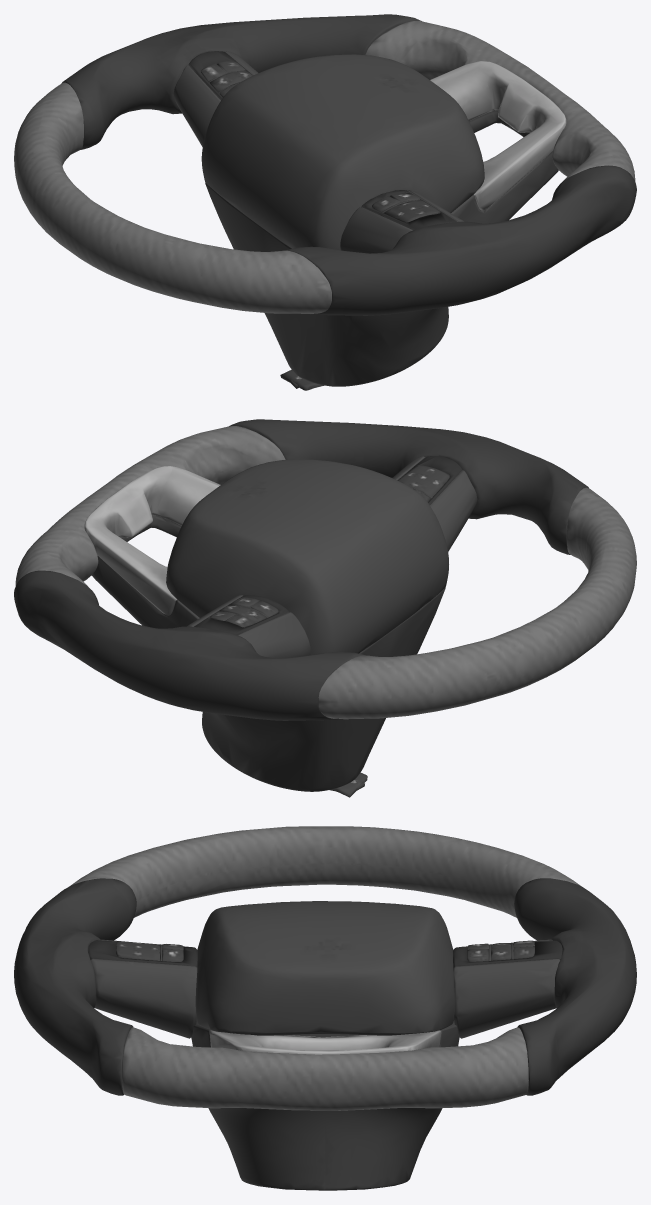
The model's file is volante.glb.
3 views of the same model, one above another, from view 1: azimuth 30°, elevation 25°; view 2: azimuth 150°, elevation 25°; view 3: azimuth 270°, elevation 25° (orthographic).
Parts seen in each view (by area): view 1: button_02_mesh_00; view 2: button_02_mesh_00; view 3: button_02_mesh_00.
Part boxes in pixels (x1,y1,x2,y2): button_02_mesh_00: [14, 14, 636, 390]; button_02_mesh_00: [14, 419, 636, 797]; button_02_mesh_00: [14, 826, 636, 1190].
Size of the model in its own units: 0.3284 by 0.1732 by 0.3503.
1 material, 1 textured.
